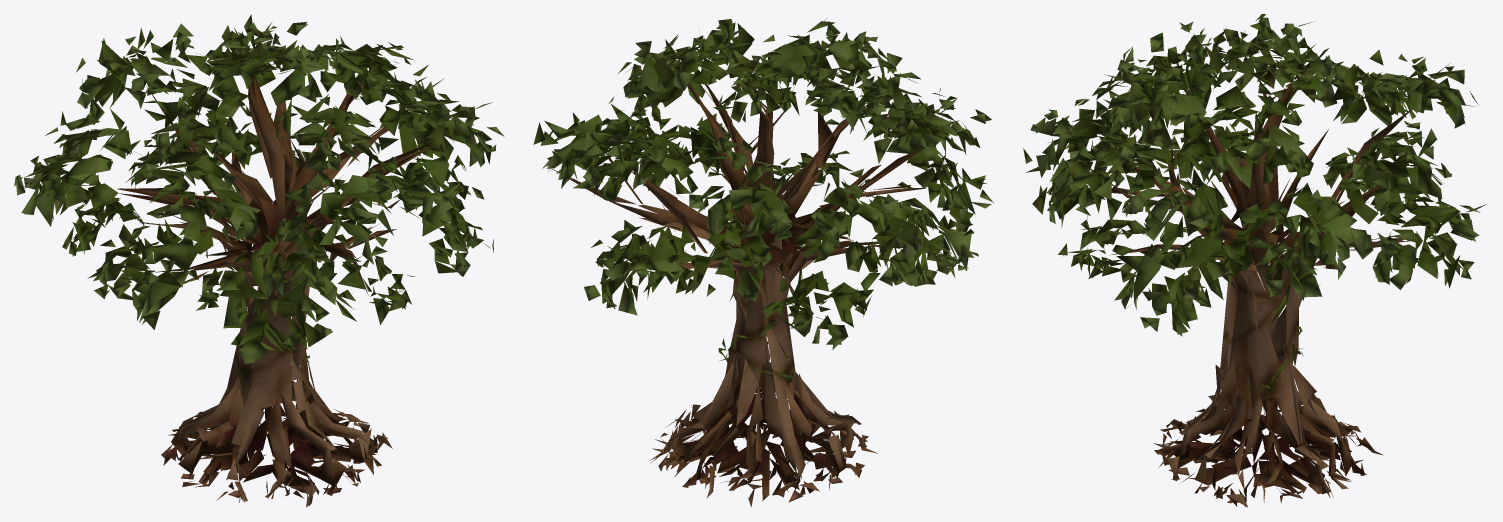
Rendered from jun_kapok_tree_buttress_LOD2.glb.
3 renders of one model, left to right at view 1: azimuth 30°, elevation 25°; view 2: azimuth 150°, elevation 25°; view 3: azimuth 270°, elevation 25°, orthographic. The views are drawn at different scales.
Visible parts, largest first — view 1: tripo_node_eeae2858-041e-427f-a393-b277f6530104; view 2: tripo_node_eeae2858-041e-427f-a393-b277f6530104; view 3: tripo_node_eeae2858-041e-427f-a393-b277f6530104.
Part boxes in pixels (x1,y1,x2,y2): tripo_node_eeae2858-041e-427f-a393-b277f6530104: [14, 14, 504, 507]; tripo_node_eeae2858-041e-427f-a393-b277f6530104: [533, 18, 993, 507]; tripo_node_eeae2858-041e-427f-a393-b277f6530104: [1023, 14, 1486, 507].
Size of the model in its own units: 1.01 by 1.03 by 1.01.
Materials: 1 (1 with a texture image).
